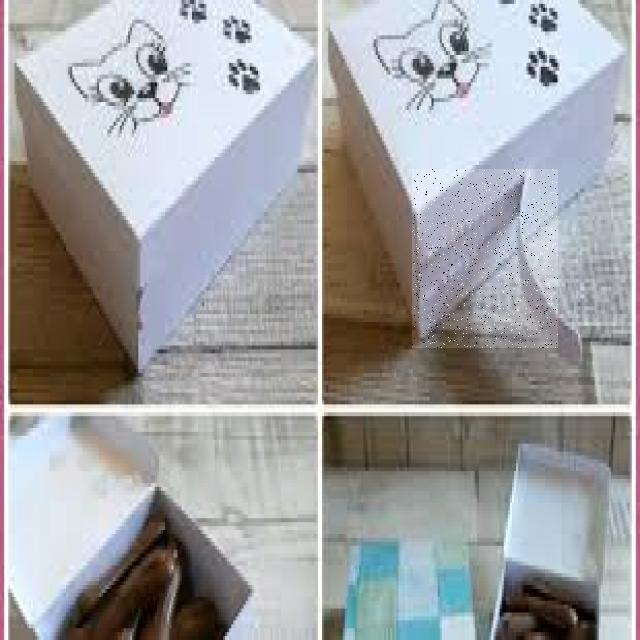tear: (412, 169, 558, 348)
